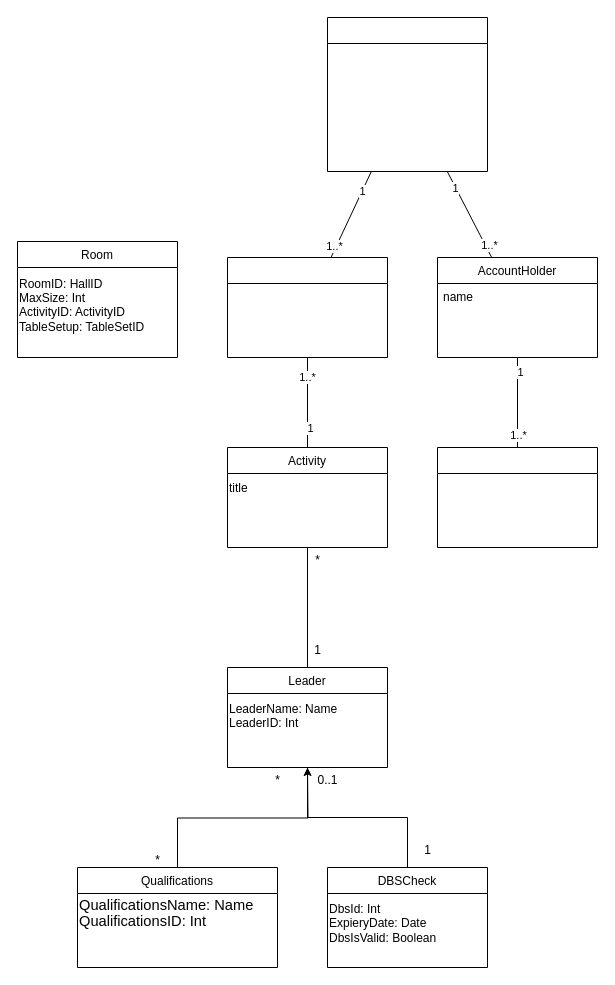
Some shapes in this 615 by 985 pixel diagram are drawn without their labels. The centre of each missing label's shape, as x and y in pixels:
"Events" goes at [307,307].
"Reservation" goes at [517,497].
"WellbeingHub" goes at [407,94].
